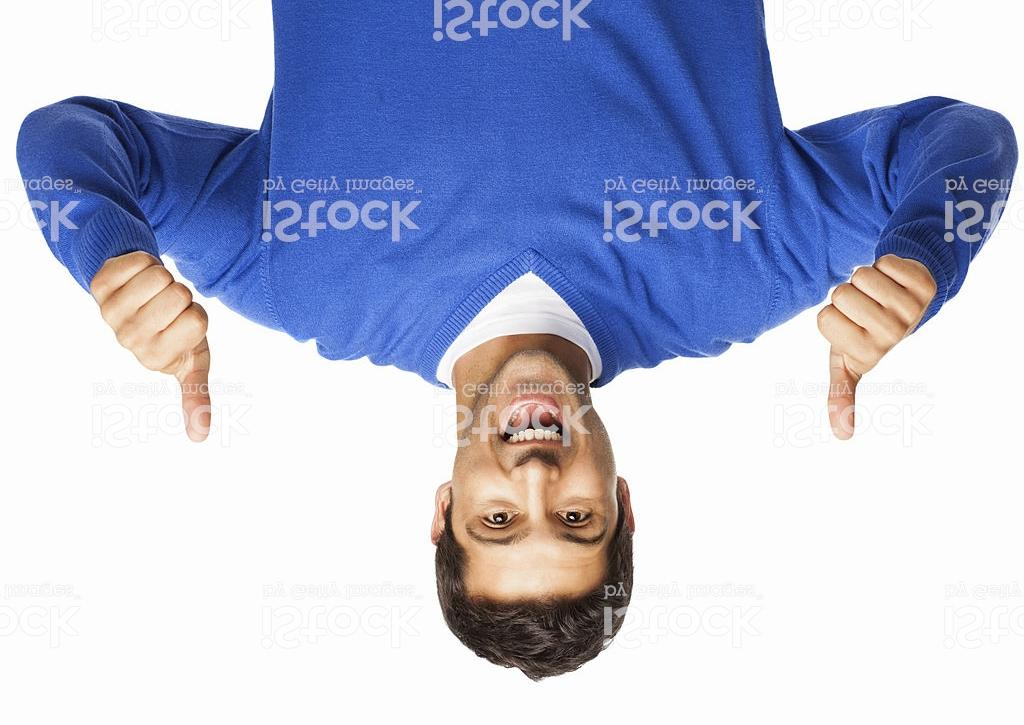thumbsdown: (90, 251, 211, 443), (816, 254, 936, 441)
